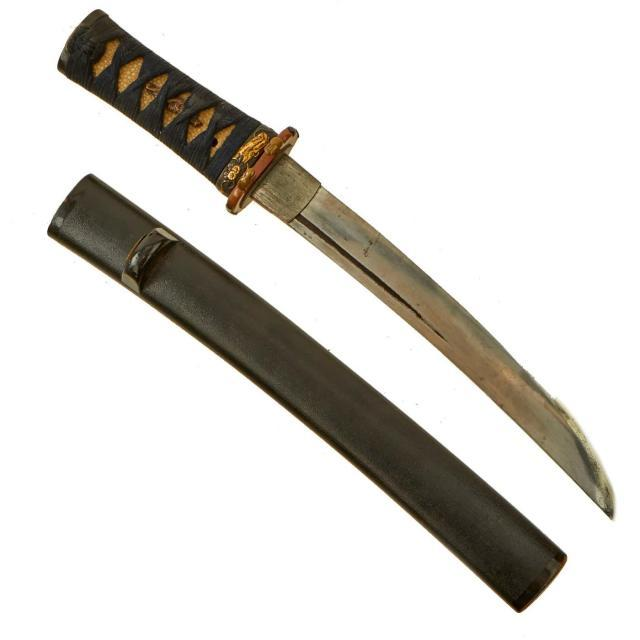short sword: (39, 3, 628, 536)
